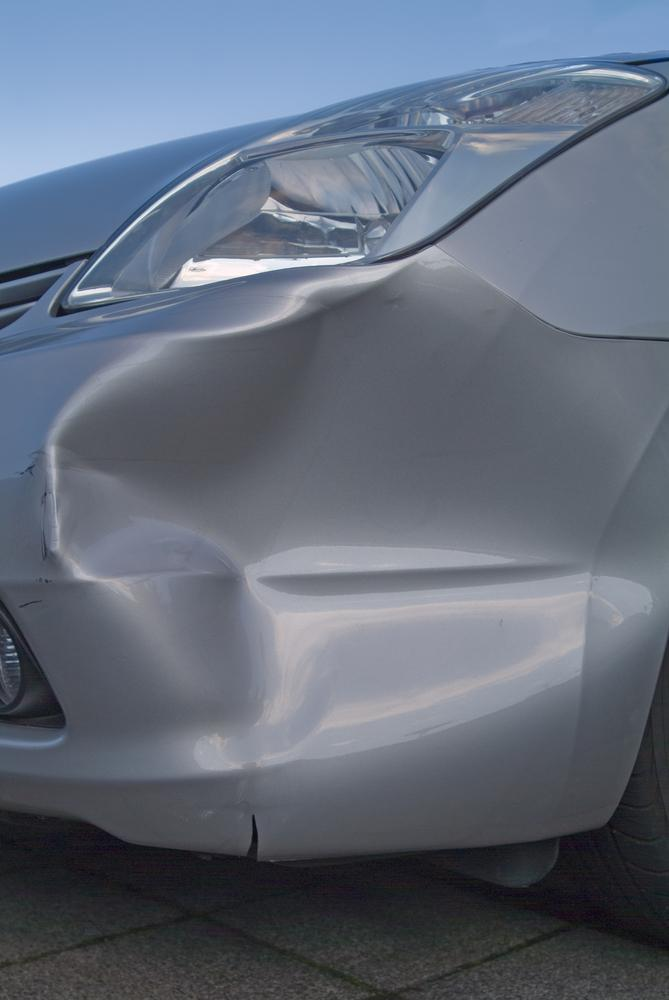crack: (244, 812, 260, 860)
dent: (49, 273, 669, 773)
